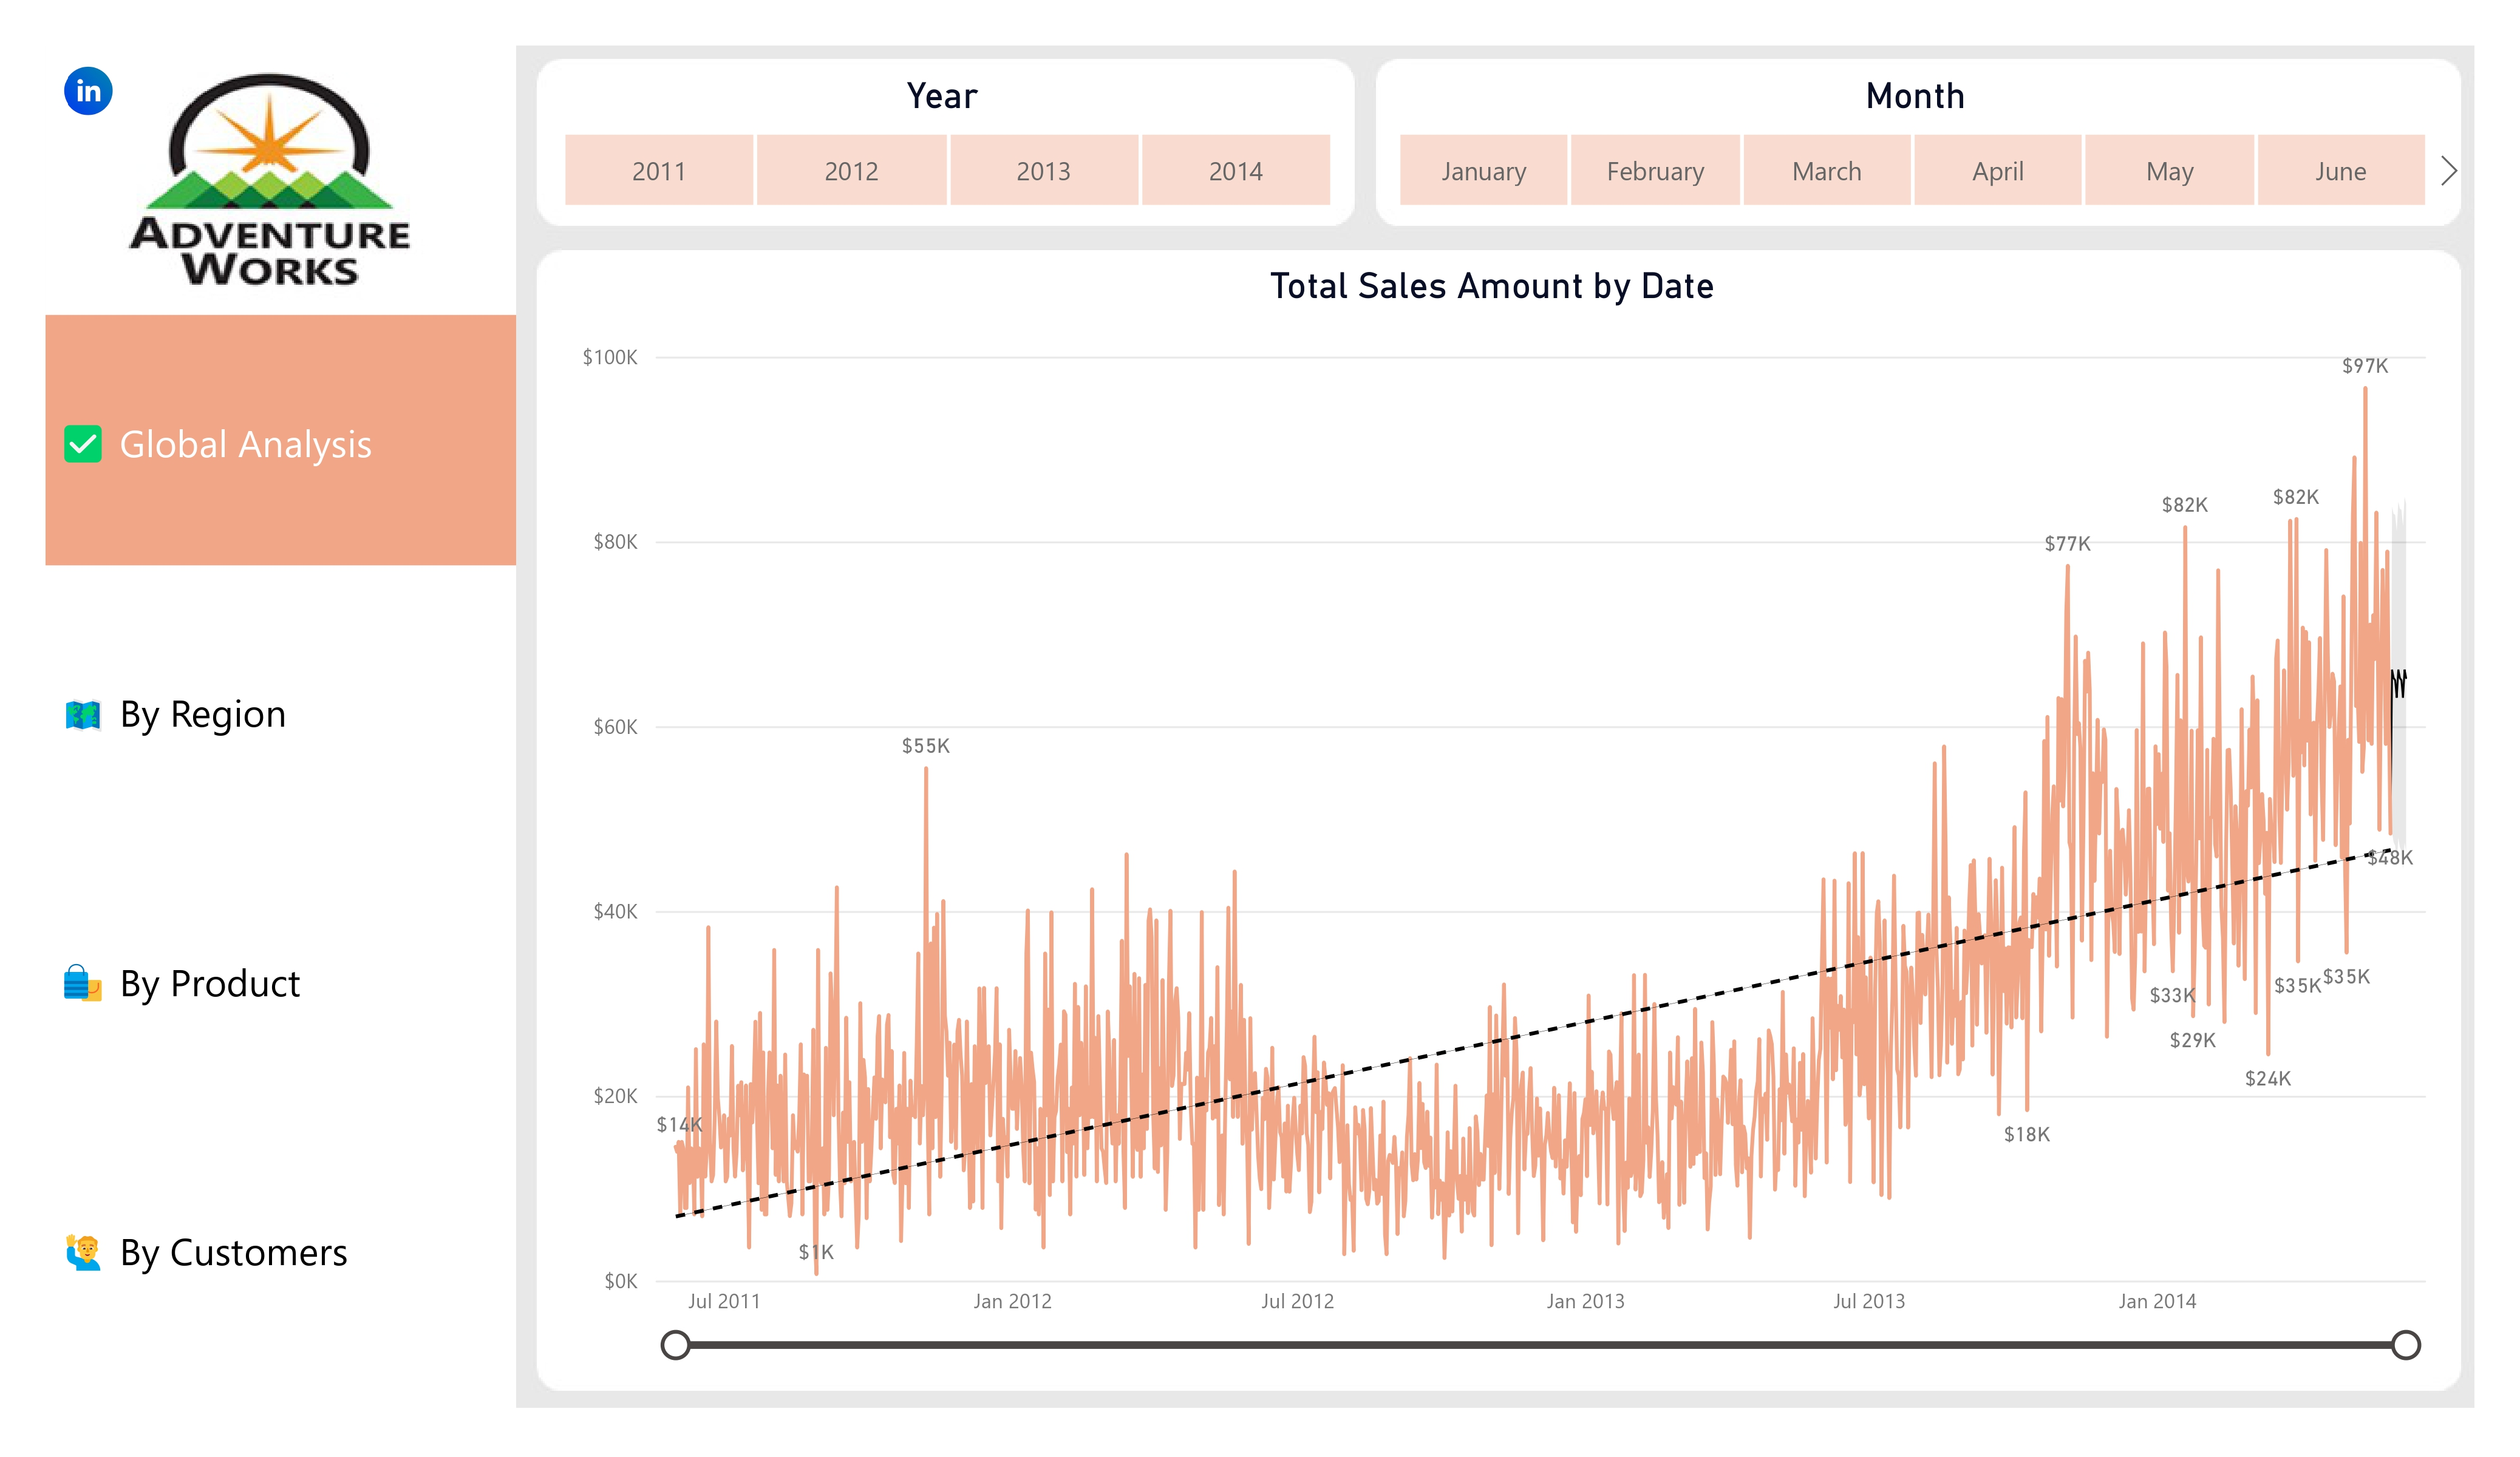

What the dashboard file says about the page in this screenshot:
{"tool":"powerbi","page":{"name":"✅ Global Analysis","canvas":[1280,720],"ordinal":0},"visuals":[{"type":"slicer","fields":{"Values":["DimDate.FiscalYear"]},"box":[248,40,453,51],"z":0},{"type":"slicer","fields":{"Values":["DimDate.EnglishMonthName"]},"box":[688,40,590,51],"z":1000},{"type":"lineChart","fields":{"Y":["FactInternetSales.Total Sales"],"Category":["DimDate.FullDateAlternateKey"]},"box":[277,150,993,546],"z":2000},{"type":"pageNavigator","box":[0,142,248,561],"z":3000},{"type":"textbox","box":[260,10,425,37],"z":4000},{"type":"textbox","box":[701,10,569,37],"z":5000},{"type":"textbox","box":[260,110,1010,37],"z":6000},{"type":"image","box":[0,0,45.5,47.3],"z":7000}]}

Visuals, with their boxes on the page's 1280x720 design canvas (x1, y1, x2, y2). These are canvas units, not pixel positions in the 2520x1457 screenshot, which may show the page scaled, cropped or inside an application window:
slicer - DimDate.FiscalYear: Rect(248, 40, 701, 91)
slicer - DimDate.EnglishMonthName: Rect(688, 40, 1278, 91)
lineChart - FactInternetSales.Total Sales x DimDate.FullDateAlternateKey: Rect(277, 150, 1270, 696)
pageNavigator: Rect(0, 142, 248, 703)
textbox: Rect(260, 10, 685, 47)
textbox: Rect(701, 10, 1270, 47)
textbox: Rect(260, 110, 1270, 147)
image: Rect(0, 0, 46, 47)
